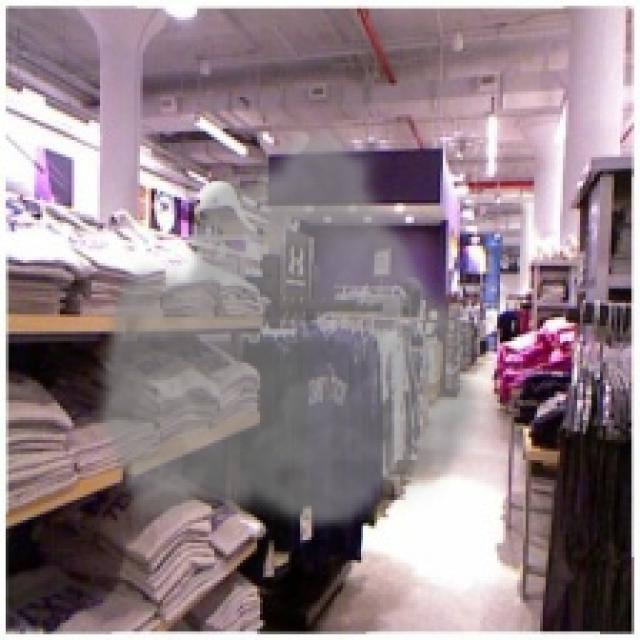Smoke: (89, 117, 498, 534)
